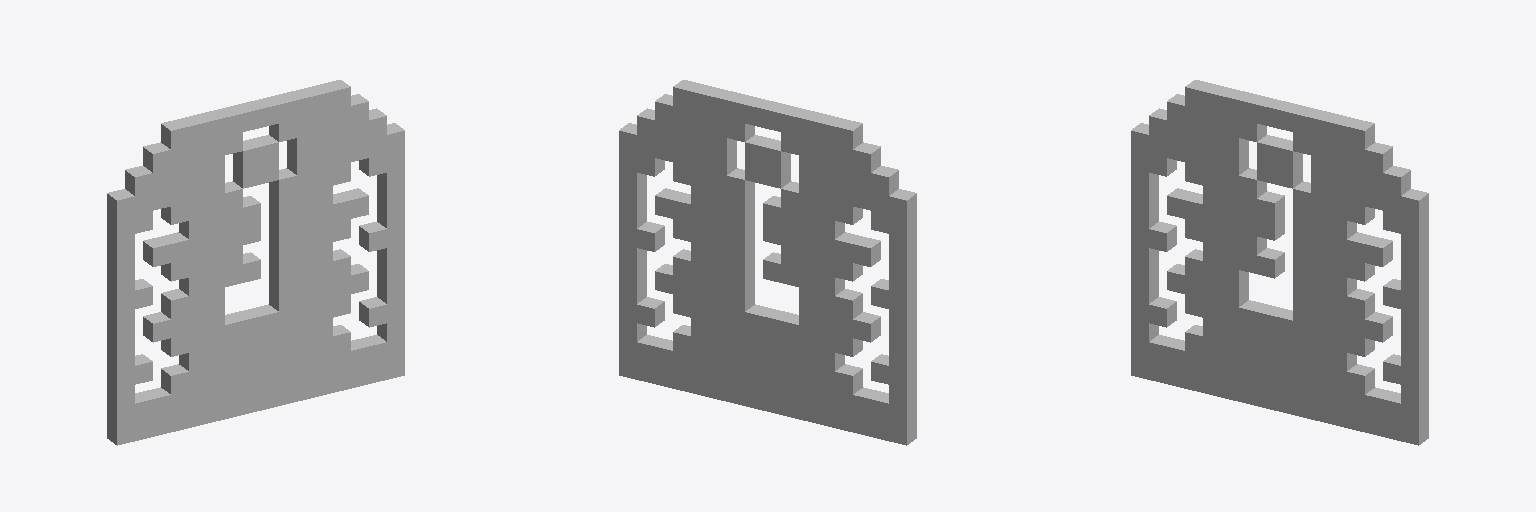
The model's file is door.obj.
3 renders of one model, left to right at view 1: azimuth 30°, elevation 25°; view 2: azimuth 150°, elevation 25°; view 3: azimuth 330°, elevation 25°, orthographic.
Size of the model in its own units: 16 by 16 by 1.